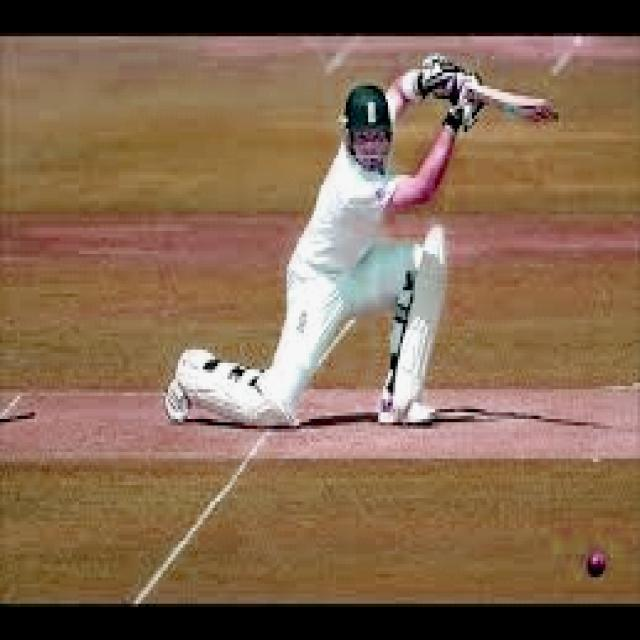bat: (461, 76, 576, 131)
toe: (515, 94, 560, 124)
